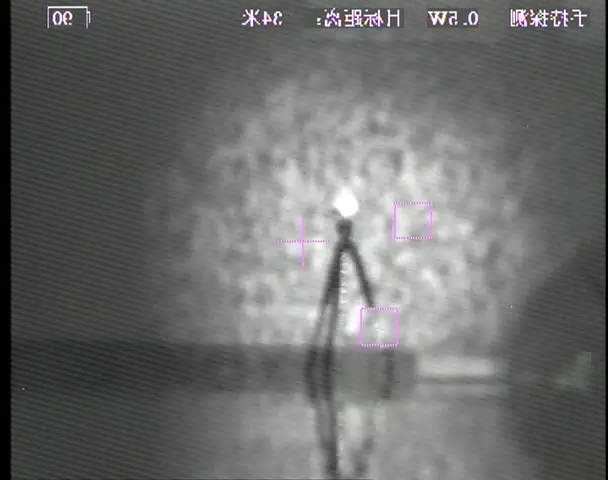my: (333, 189, 360, 219)
